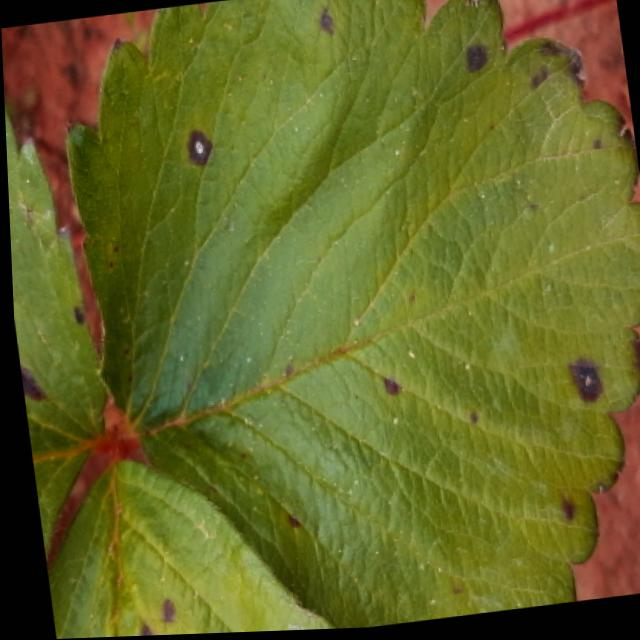Leaf Spot: (63, 0, 640, 631), (41, 457, 328, 639), (4, 107, 105, 566)
